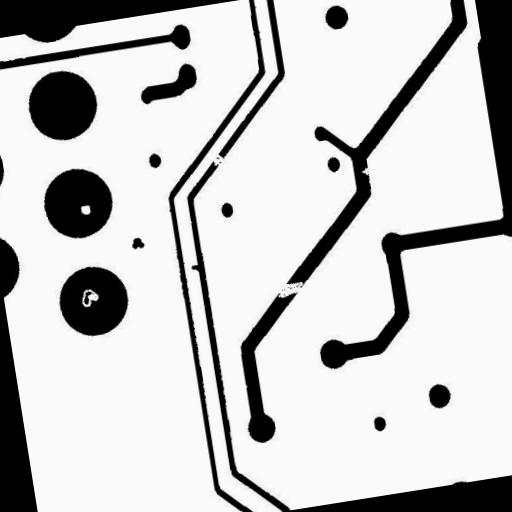copper: (122, 228, 153, 257)
mousebite: (352, 158, 378, 184)
open: (267, 272, 313, 306), (203, 142, 233, 176)
pin-hole: (71, 278, 108, 316), (72, 196, 98, 222)
spur: (182, 255, 210, 281)
